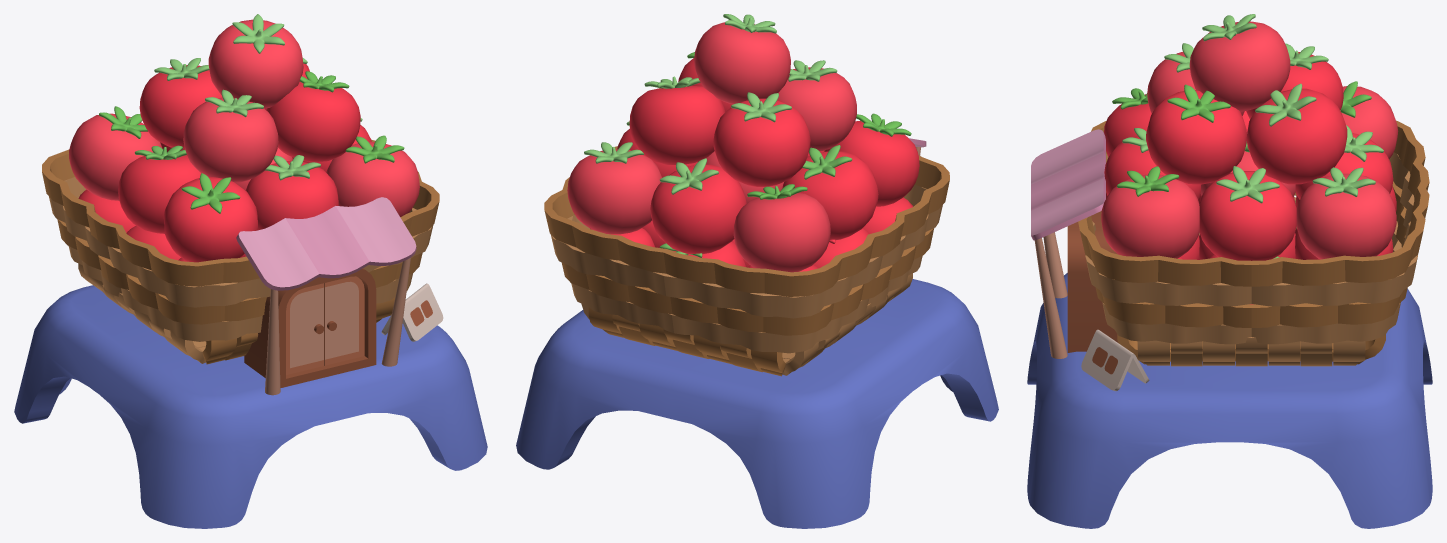
File: Tomato.fbx
The picture shows the model from 3 angles, left to right: view 1: azimuth 30°, elevation 25°; view 2: azimuth 150°, elevation 25°; view 3: azimuth 270°, elevation 25°; orthographic projection. The views are drawn at different scales.
Parts seen in each view (by area): view 1: Tomato, Tomato.022, Tomato.023, Tomato.024, Tomato.012, Tomato.027, Tomato.004, Tomato.010, Tomato.007, Tomato.005, Tomato.001, Tomato.003 (+4 smaller); view 2: Tomato, Tomato.022, Tomato.011, Tomato.002, Tomato.005, Tomato.027, Tomato.008, Tomato.009, Tomato.003, Tomato.012, Tomato.004, Tomato.017 (+2 smaller); view 3: Tomato, Tomato.022, Tomato.023, Tomato.009, Tomato.010, Tomato.006, Tomato.008, Tomato.007, Tomato.027, Tomato.024, Tomato.005, Tomato.025 (+6 smaller).
Part boxes in pixels (<box>): Tomato: <box>14,285,487,528</box>; Tomato.022: <box>42,139,439,364</box>; Tomato.023: <box>236,197,416,395</box>; Tomato.024: <box>244,268,376,388</box>; Tomato.012: <box>183,89,278,182</box>; Tomato.027: <box>208,14,303,108</box>; Tomato.004: <box>163,173,257,262</box>; Tomato.010: <box>266,71,360,162</box>; Tomato.007: <box>326,135,419,216</box>; Tomato.005: <box>69,106,162,200</box>; Tomato.001: <box>245,155,338,230</box>; Tomato.003: <box>118,145,201,233</box>; Tomato: <box>516,279,998,528</box>; Tomato.022: <box>544,146,949,376</box>; Tomato.011: <box>713,92,810,186</box>; Tomato.002: <box>650,158,746,254</box>; Tomato.005: <box>733,184,830,272</box>; Tomato.027: <box>694,14,790,104</box>; Tomato.008: <box>567,142,661,234</box>; Tomato.009: <box>629,76,725,164</box>; Tomato.003: <box>782,145,878,239</box>; Tomato.012: <box>777,60,856,151</box>; Tomato.004: <box>824,113,919,206</box>; Tomato.017: <box>863,197,912,234</box>; Tomato: <box>1027,273,1432,528</box>; Tomato.022: <box>1078,120,1429,366</box>; Tomato.023: <box>1031,129,1105,358</box>; Tomato.009: <box>1246,83,1347,184</box>; Tomato.010: <box>1146,84,1246,184</box>; Tomato.006: <box>1199,166,1296,260</box>; Tomato.008: <box>1296,167,1396,259</box>; Tomato.007: <box>1101,166,1199,258</box>; Tomato.027: <box>1189,14,1290,111</box>; Tomato.024: <box>1067,211,1118,352</box>; Tomato.005: <box>1340,81,1398,158</box>; Tomato.025: <box>1081,329,1149,391</box>.
Bounding box in the file's own units: 8.67 × 9.95 × 8.54.
